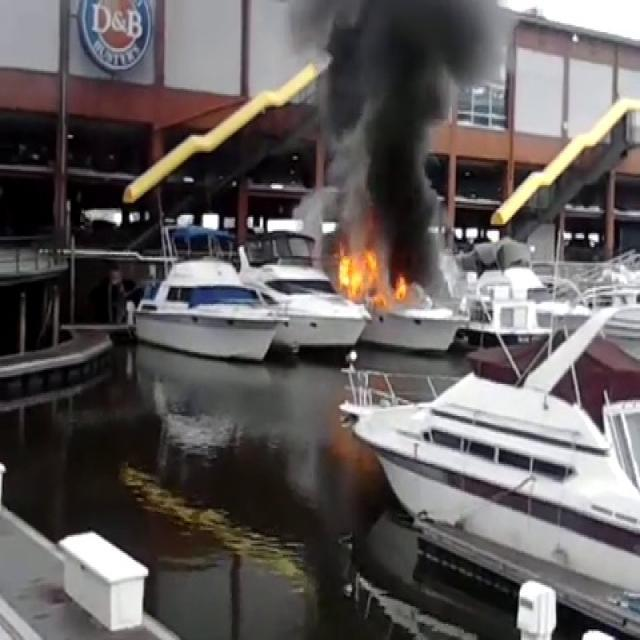Fire: (331, 234, 408, 314)
Smoke: (272, 0, 510, 247)
